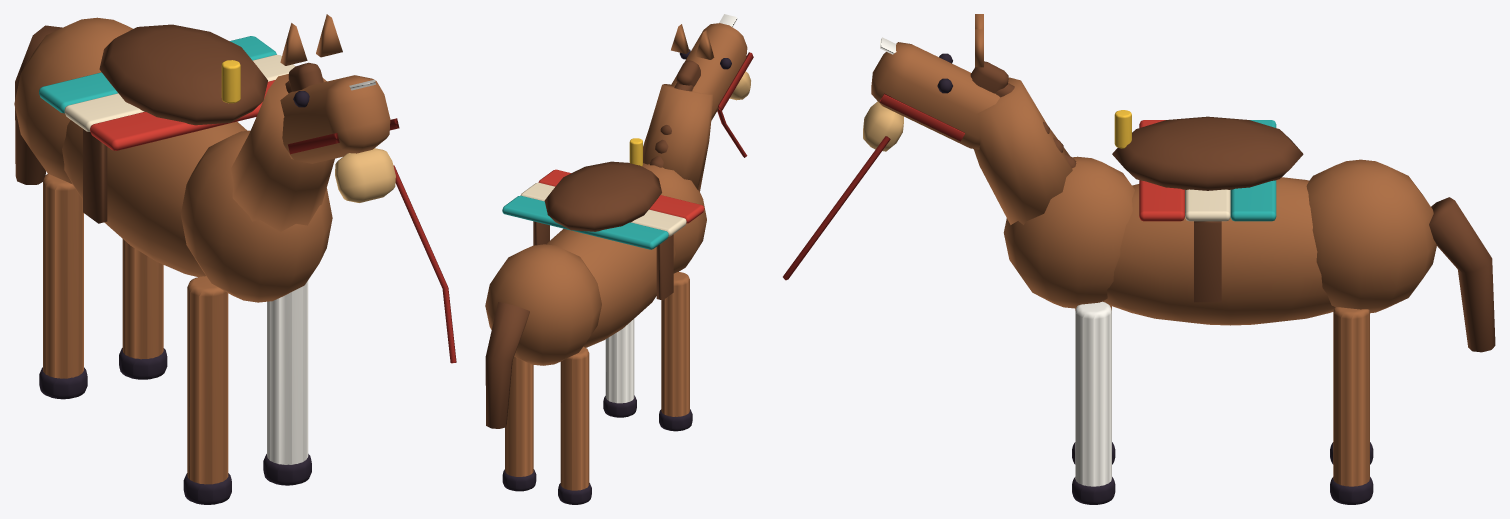
The model's file is gulch_horse_a.glb.
The picture shows the model from 3 angles, left to right: view 1: azimuth 30°, elevation 25°; view 2: azimuth 150°, elevation 25°; view 3: azimuth 270°, elevation 25°; orthographic projection. The views are drawn at different scales.
Visible parts, largest first — view 1: Horse; view 2: Horse; view 3: Horse.
Part boxes in pixels (x1,y1,x2,y2): Horse: (14,14,456,504); Horse: (485,14,753,504); Horse: (783,14,1495,504).
Bounding box in the file's own units: 0.98 × 2.22 × 3.12.
